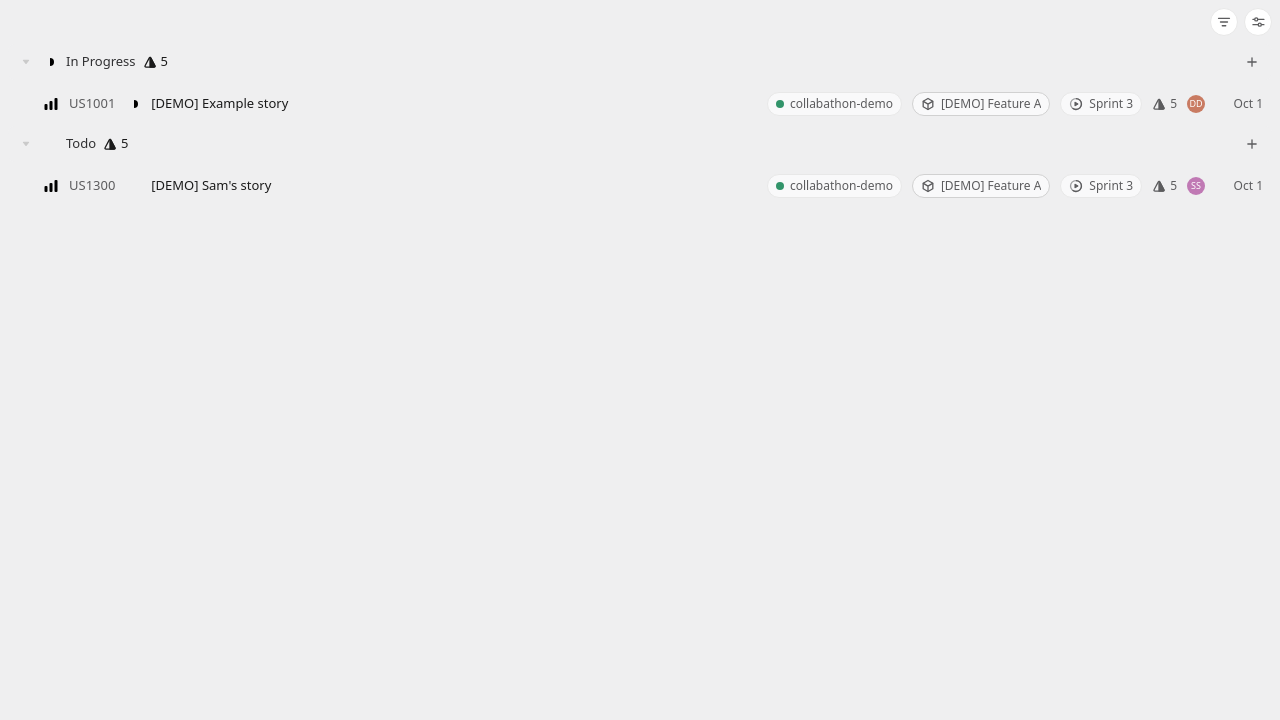
grouping by assignee with empty groups shows No assignee
Click the button named "Display options".
click(1258, 22)  # box [1244,8,1272,36]
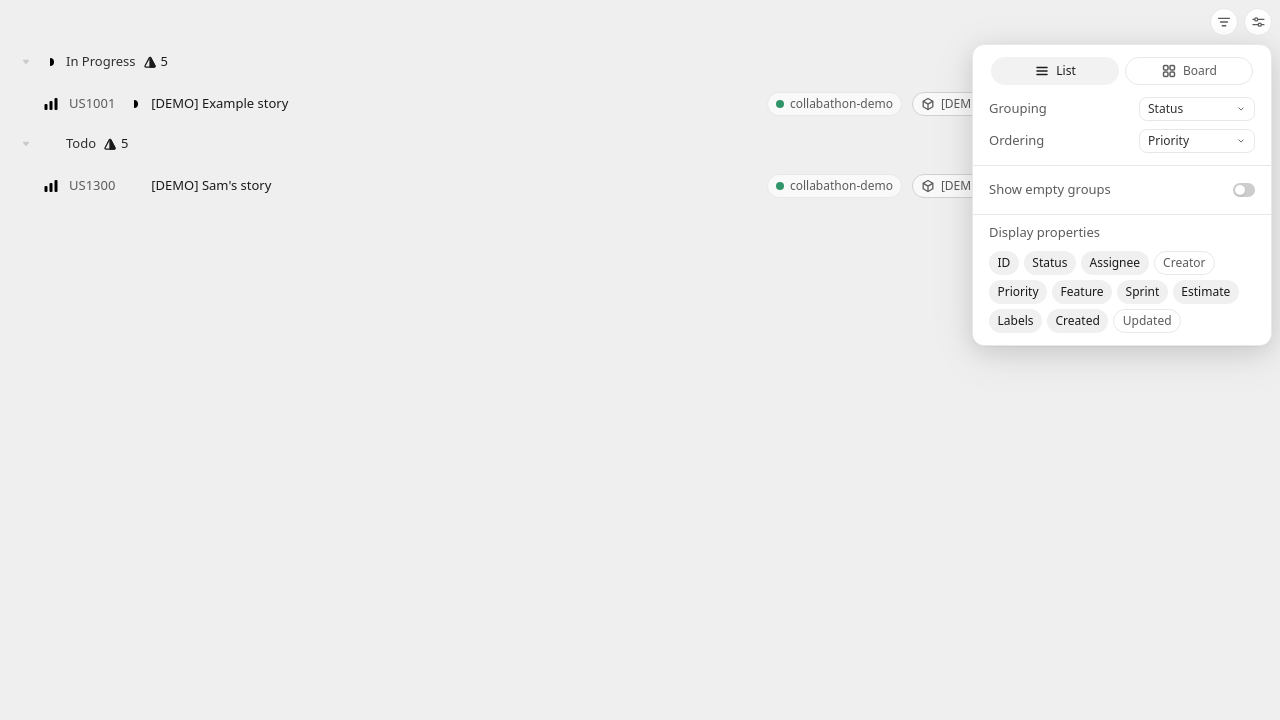
Click the button with aria-label "Grouping: Status".
click(1197, 109)  # box [1139,97,1255,121]
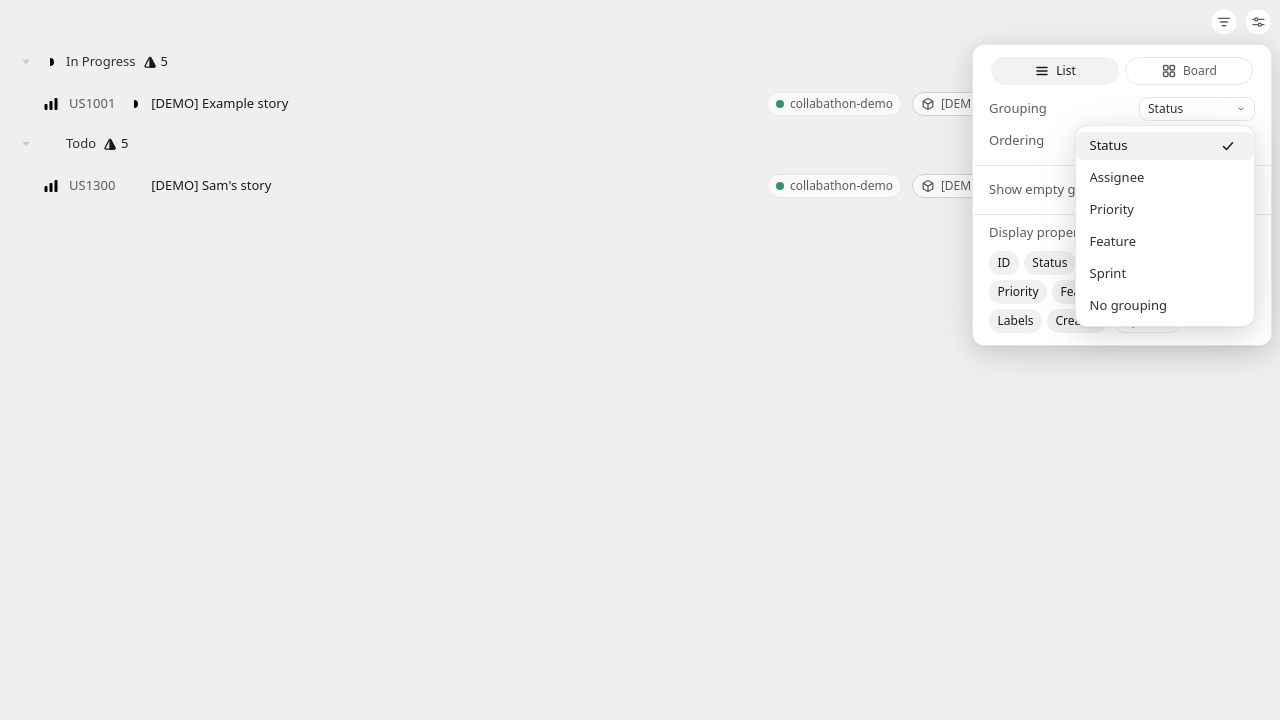
Click the menu item "Assignee".
click(1117, 177)  # box [1090,168,1144,186]
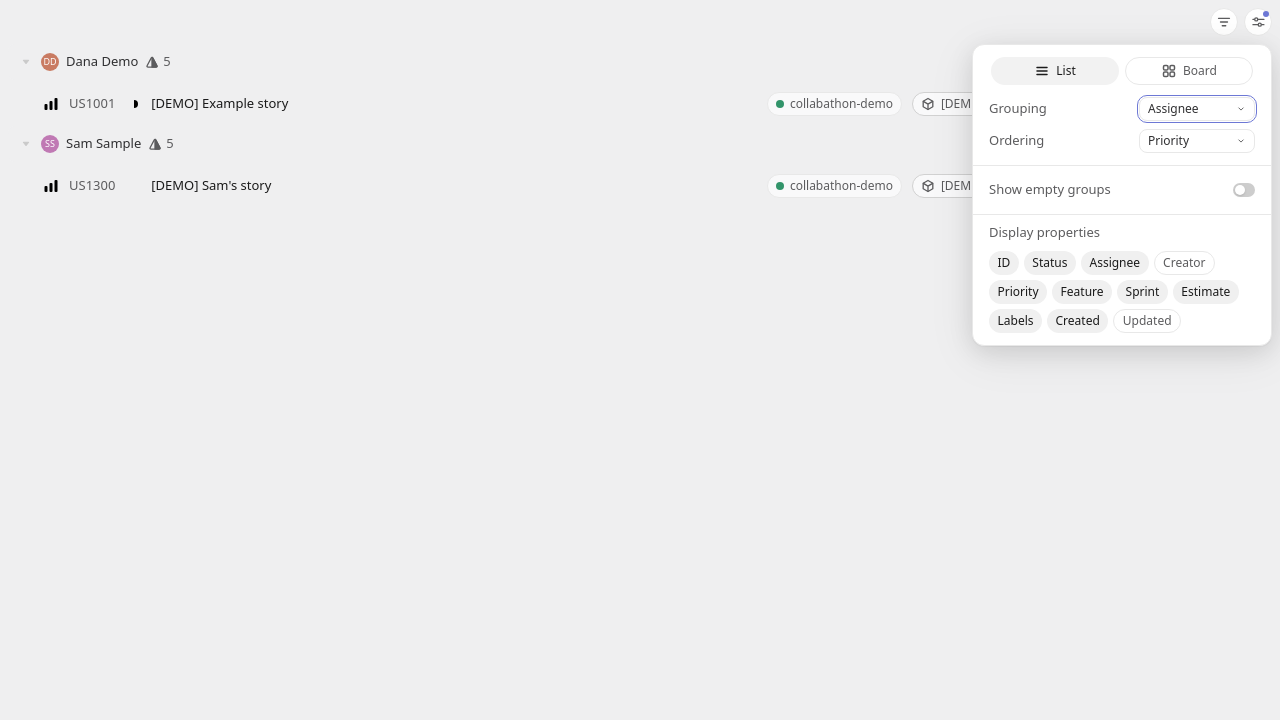
Click the switch named "Show empty groups".
click(1244, 190)  # box [1233,183,1255,197]
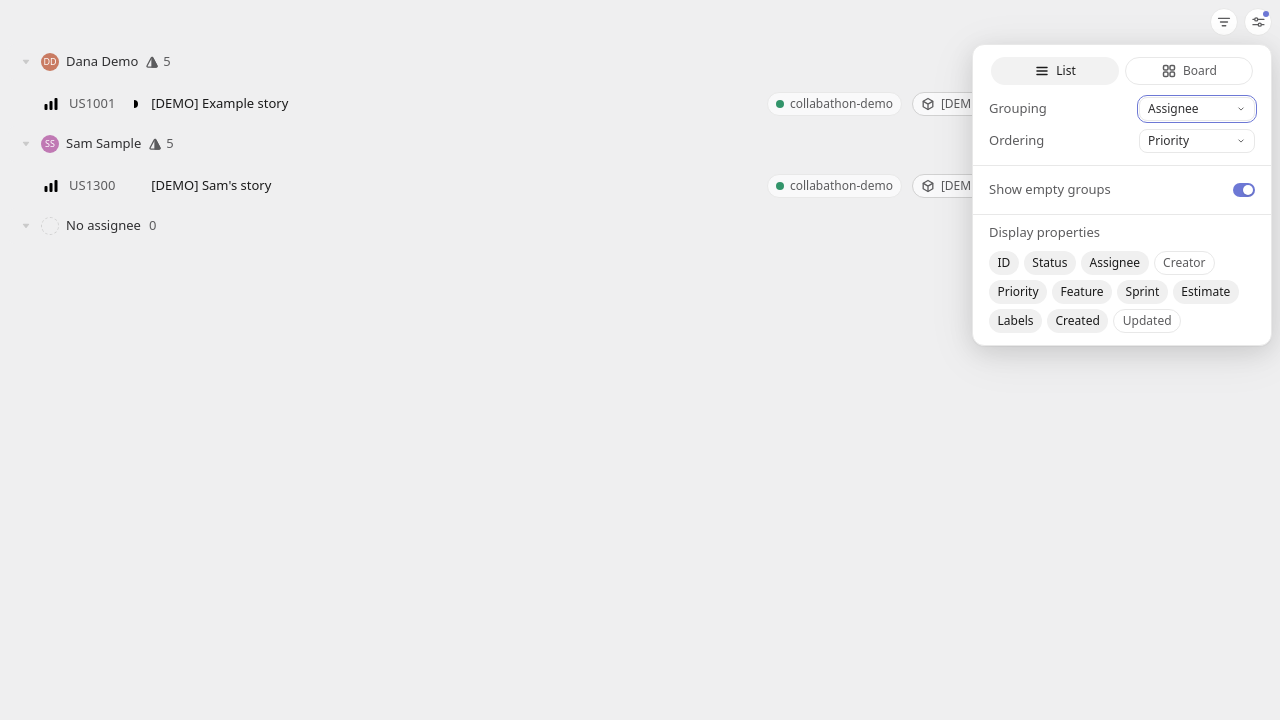
Now the element "Dana Demo" is shown, box [0,44,1279,126]
Now the element "No assignee" is shown, box [0,208,1279,246]
